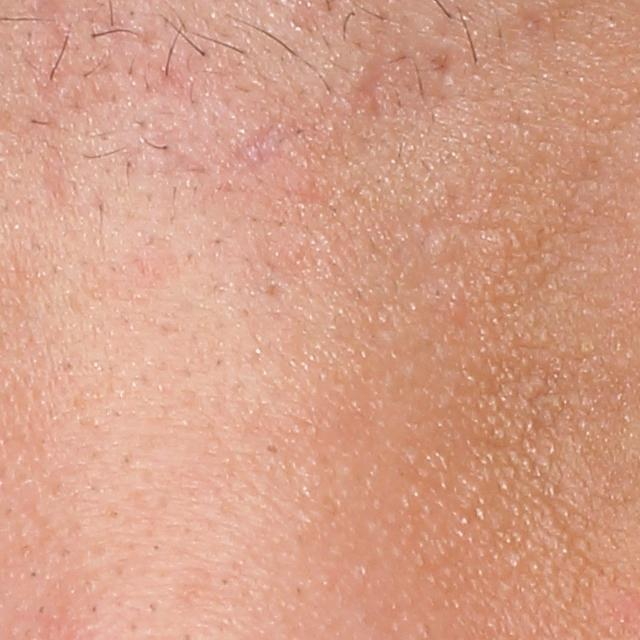atrophic_scar: (347, 69, 385, 117), (424, 49, 454, 83)
